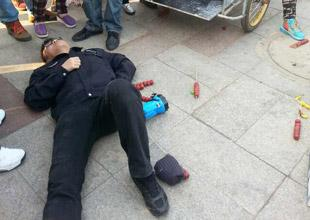fall: (22, 18, 180, 220)
